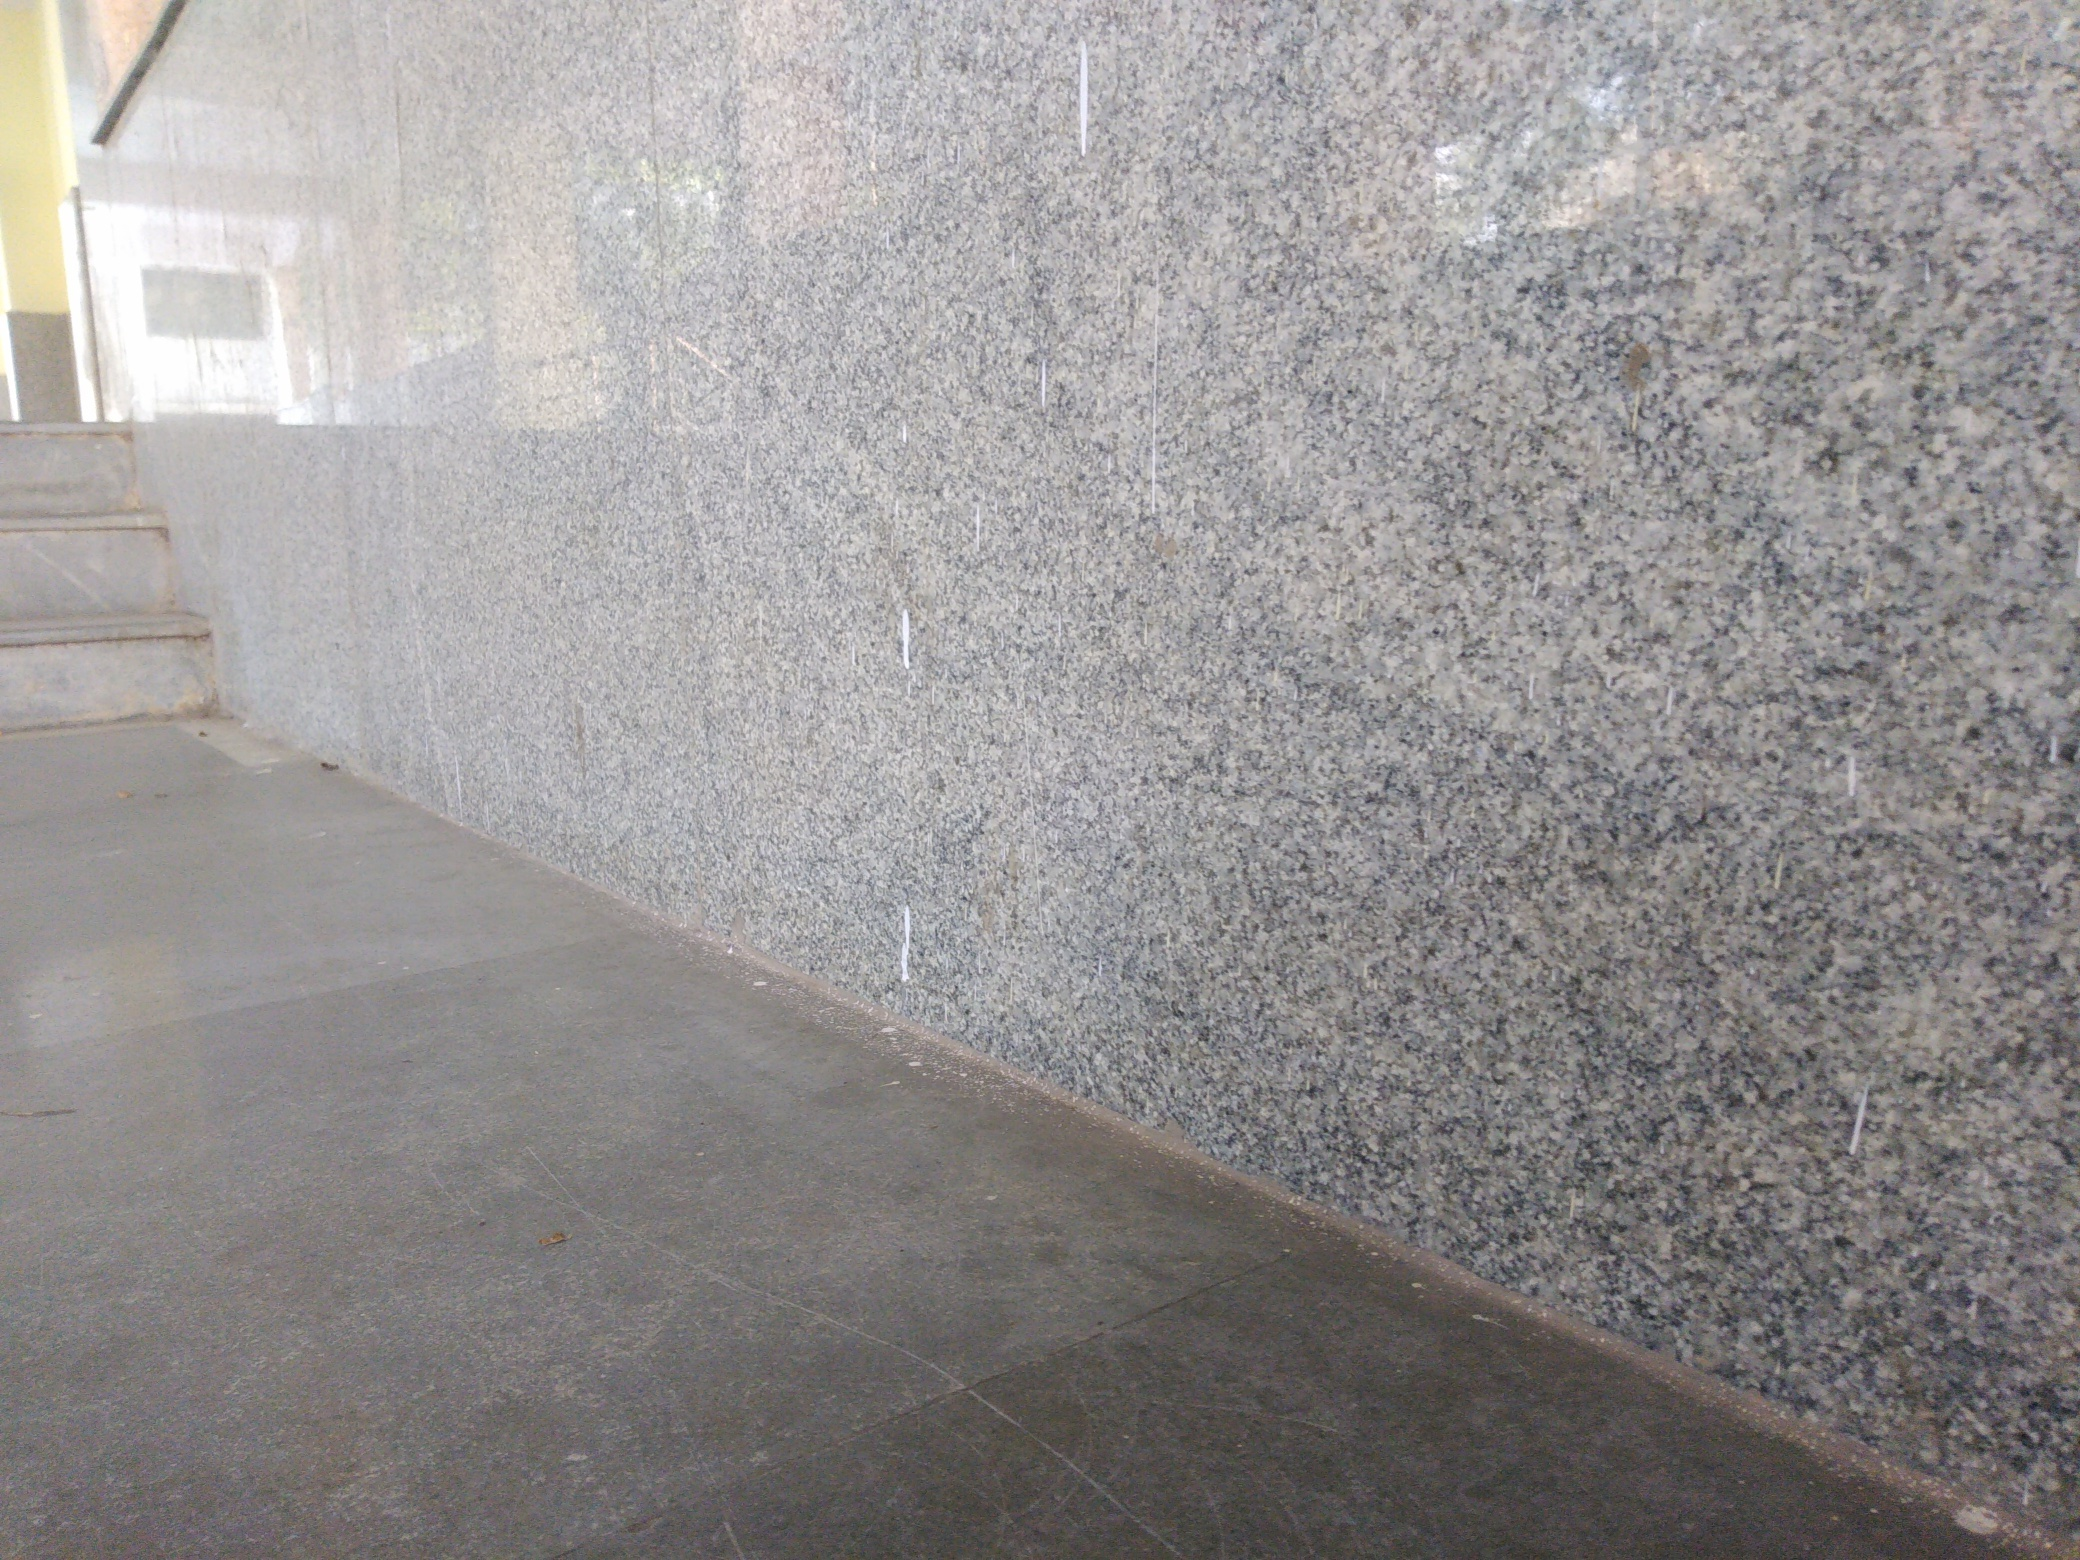stairs_up: (7, 415, 252, 754)
